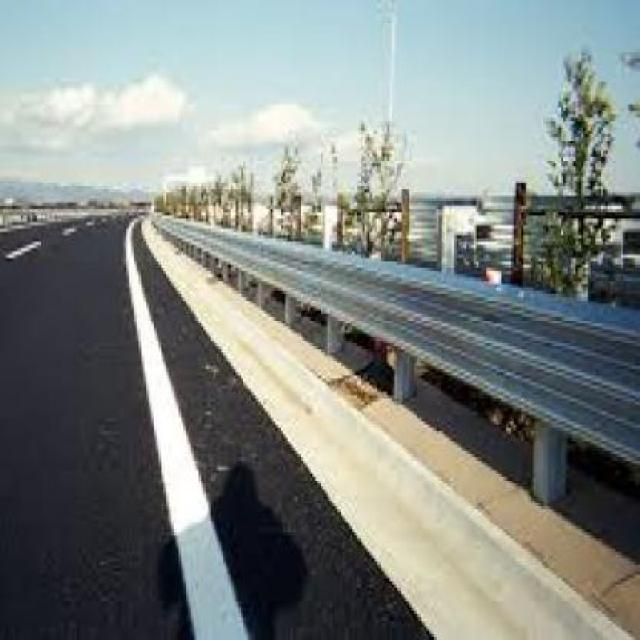Guard rail: (149, 196, 640, 538)
